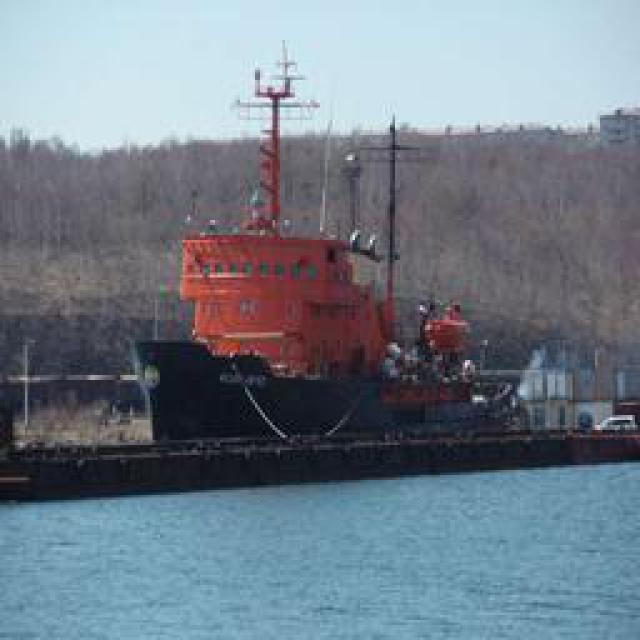Ship: (105, 36, 568, 453)
